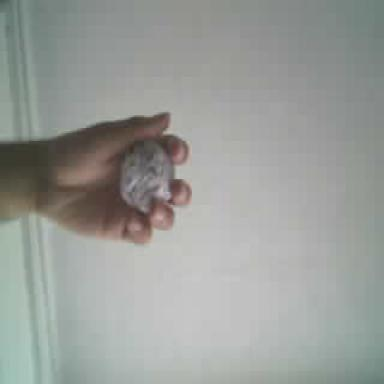paper: (120, 141, 174, 213)
